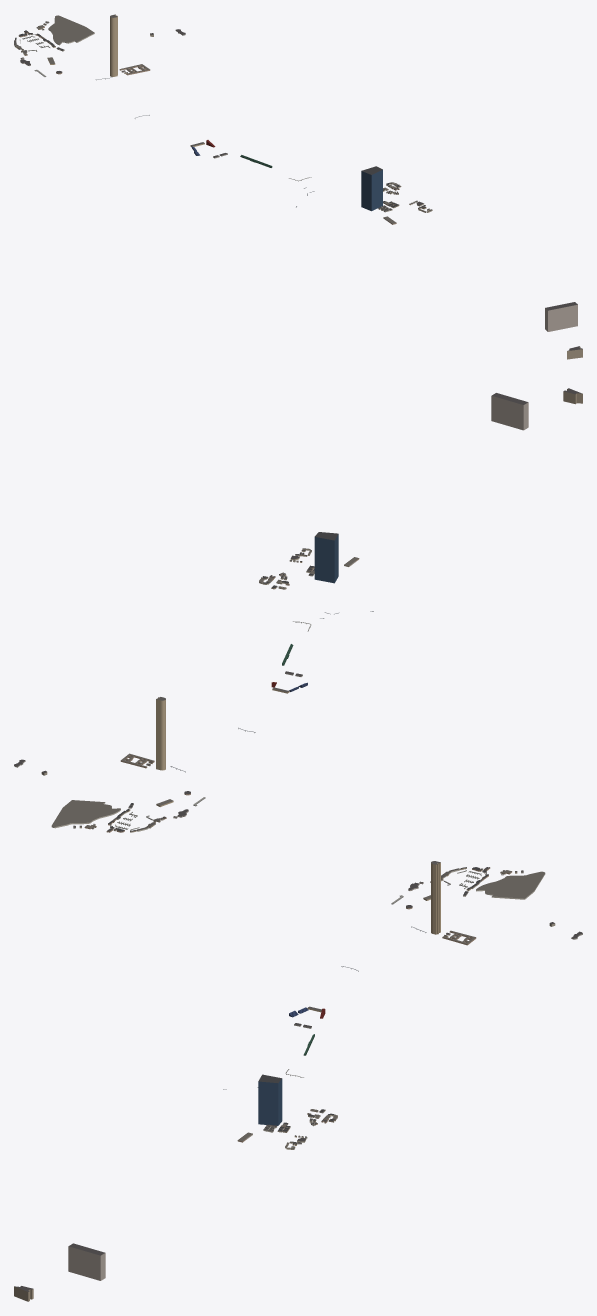
File: scenery.glb
3 views of the same model, one above another, from view 1: azimuth 30°, elevation 25°; view 2: azimuth 150°, elevation 25°; view 3: azimuth 330°, elevation 25° (orthographic). The views are drawn at different scales.
Parts seen in each view (by area): view 1: chunk_15_10, chunk_16_19, chunk_17_24, chunk_15_12; view 2: chunk_15_10, chunk_16_19, chunk_17_24, chunk_15_12; view 3: chunk_15_10, chunk_16_19, chunk_17_24, chunk_15_12.
Part boxes in pixels (left/top/right/bottom): chunk_15_10: left=18, top=15, right=94, bottom=47; chunk_16_19: left=361, top=166, right=396, bottom=224; chunk_17_24: left=545, top=302, right=577, bottom=331; chunk_15_12: left=95, top=14, right=150, bottom=80; chunk_15_10: left=51, top=800, right=137, bottom=832; chunk_16_19: left=308, top=532, right=359, bottom=583; chunk_17_24: left=491, top=393, right=528, bottom=430; chunk_15_12: left=120, top=697, right=185, bottom=772; chunk_15_10: left=459, top=867, right=545, bottom=899; chunk_16_19: left=237, top=1074, right=288, bottom=1142; chunk_17_24: left=68, top=1243, right=105, bottom=1280; chunk_15_12: left=411, top=861, right=476, bottom=945.
Size of the model in its own units: 1206 by 436 by 6392.
